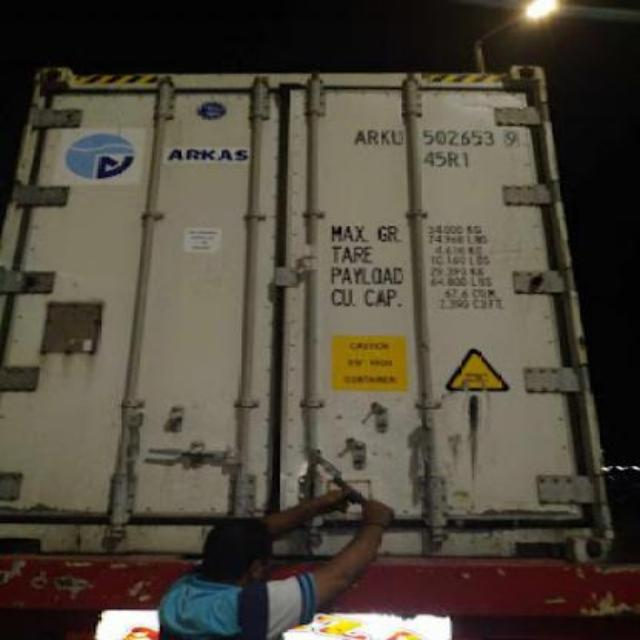0: (436, 129, 449, 147)
2: (446, 130, 459, 144)
3: (480, 128, 498, 148)
5: (468, 128, 484, 148), (422, 129, 436, 147)
6: (460, 130, 472, 146)
9: (504, 130, 518, 148)
A: (356, 127, 366, 147)
K: (380, 130, 390, 146)
R: (366, 129, 378, 145)
U: (391, 129, 404, 147)
